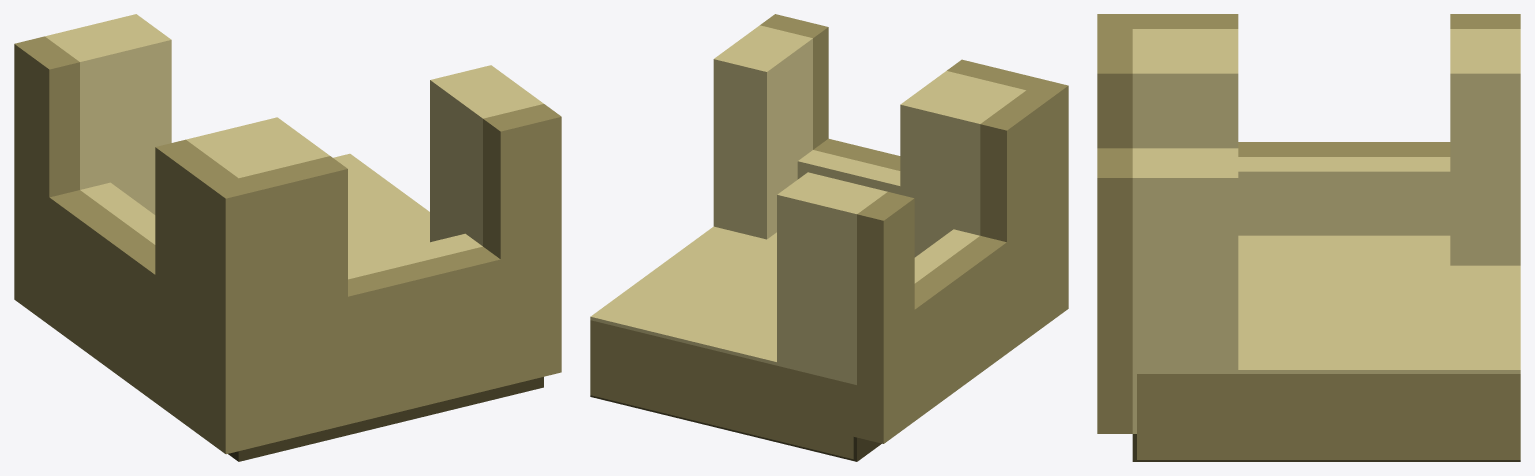
File: sandtower_1.0-1.obj
3 views of the same model, side by side, from view 1: azimuth 30°, elevation 25°; view 2: azimuth 150°, elevation 25°; view 3: azimuth 270°, elevation 25° (orthographic). The views are drawn at different scales.
Size of the model in its own units: 17.6 by 14.2 by 19.2.
1 material, 1 textured.
